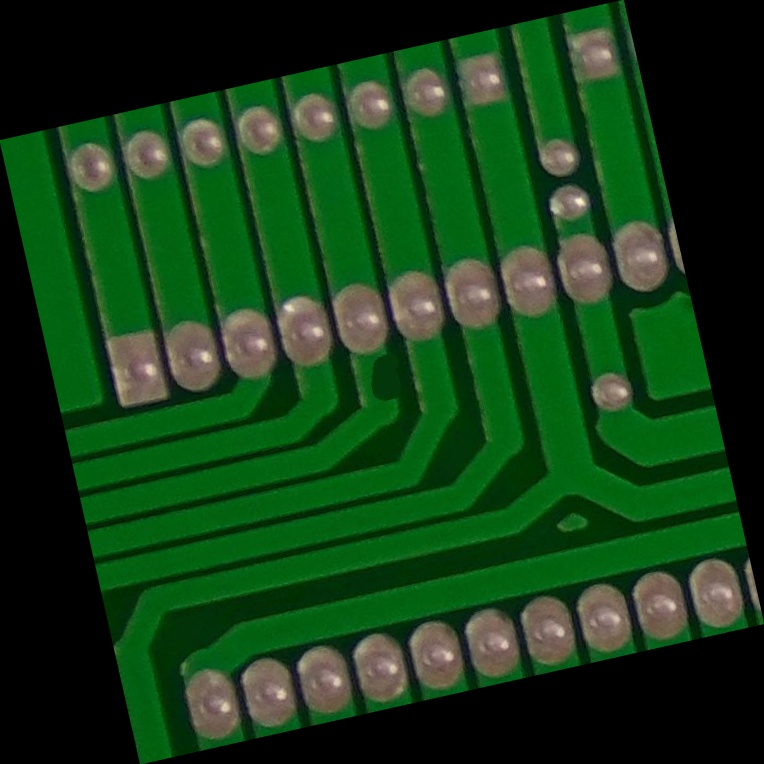mouse_bite: (345, 337, 420, 426)
